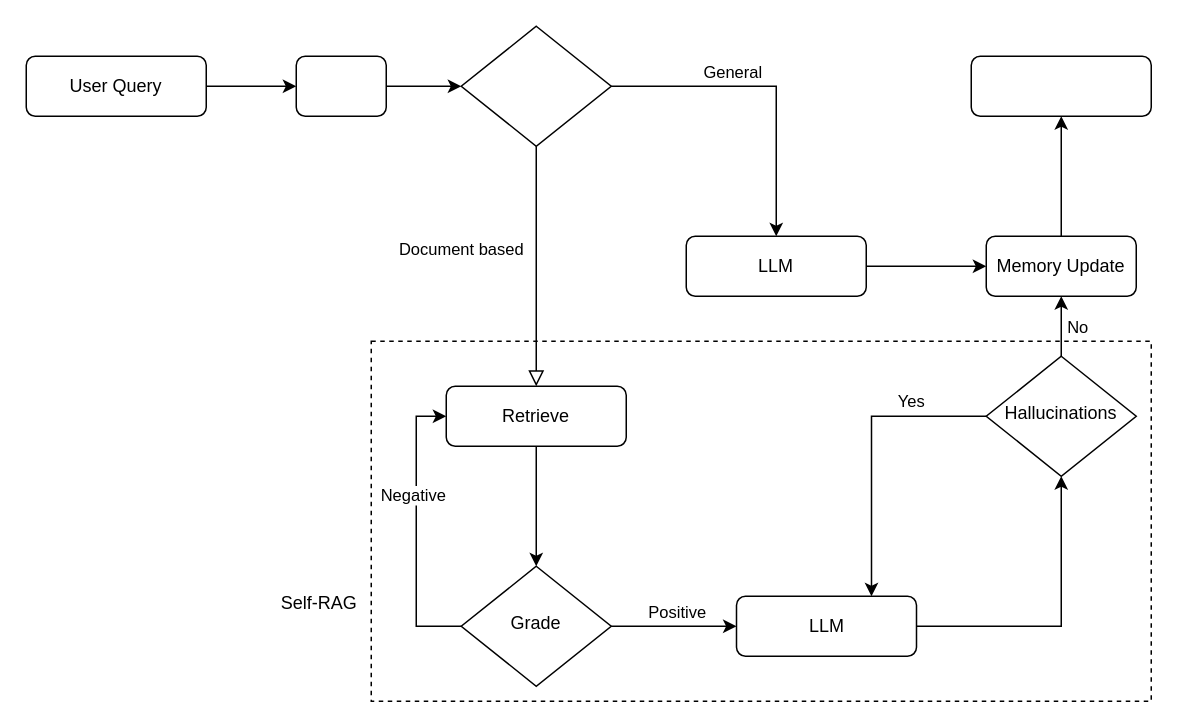
The diagram is 1178 pixels wide and 728 high, and some of its shapes have lost their labels. The shapes that lost their labels are listed below. From the top down, each one's centre as x and y in pixels, then its label:
At pixel 340 85: "Memory".
At pixel 535 85: "Router".
At pixel 1060 85: "Answer".
